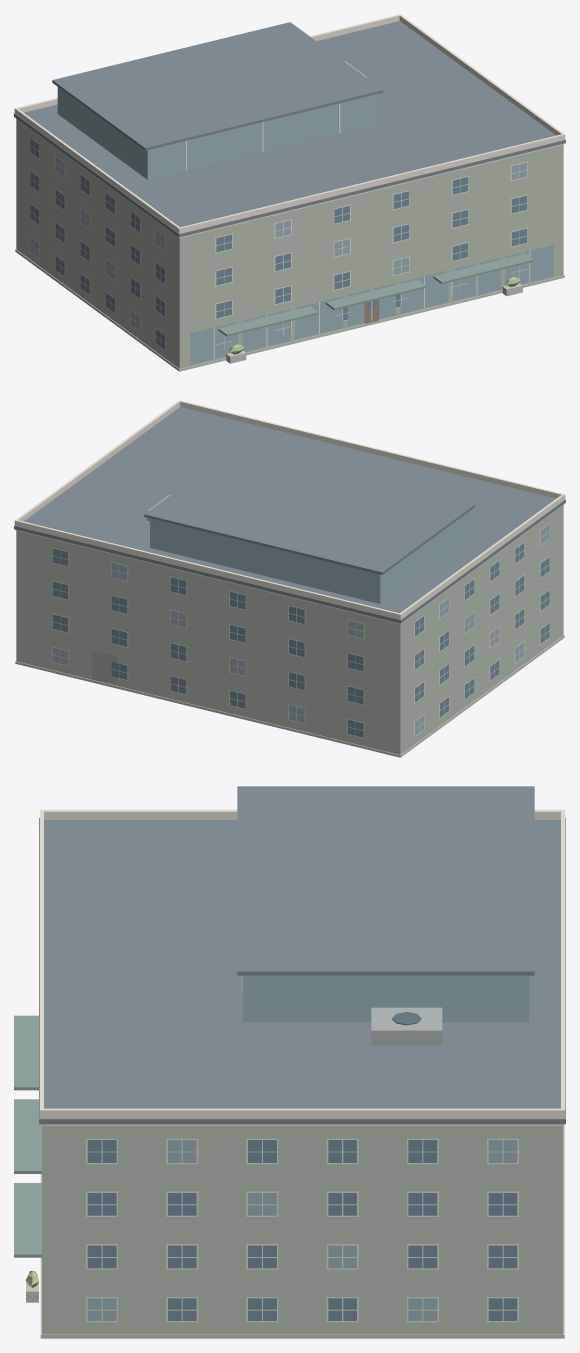
The model's file is office-retail-court.glb.
3 views of the same model, one above another, from view 1: azimuth 30°, elevation 25°; view 2: azimuth 150°, elevation 25°; view 3: azimuth 270°, elevation 25° (orthographic). The views are drawn at different scales.
Visible parts, largest first — view 1: office-retail-court; view 2: office-retail-court; view 3: office-retail-court.
Boxes of the visible parts, x1=… form: office-retail-court: x1=14, y1=14, x2=565, y2=371; office-retail-court: x1=14, y1=400, x2=565, y2=757; office-retail-court: x1=14, y1=786, x2=565, y2=1338.
Size of the model in its own units: 38.3 by 16.24 by 29.65.
